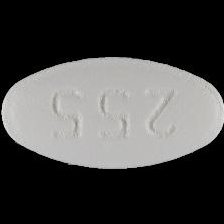58118-0083: (0, 0, 224, 224)
